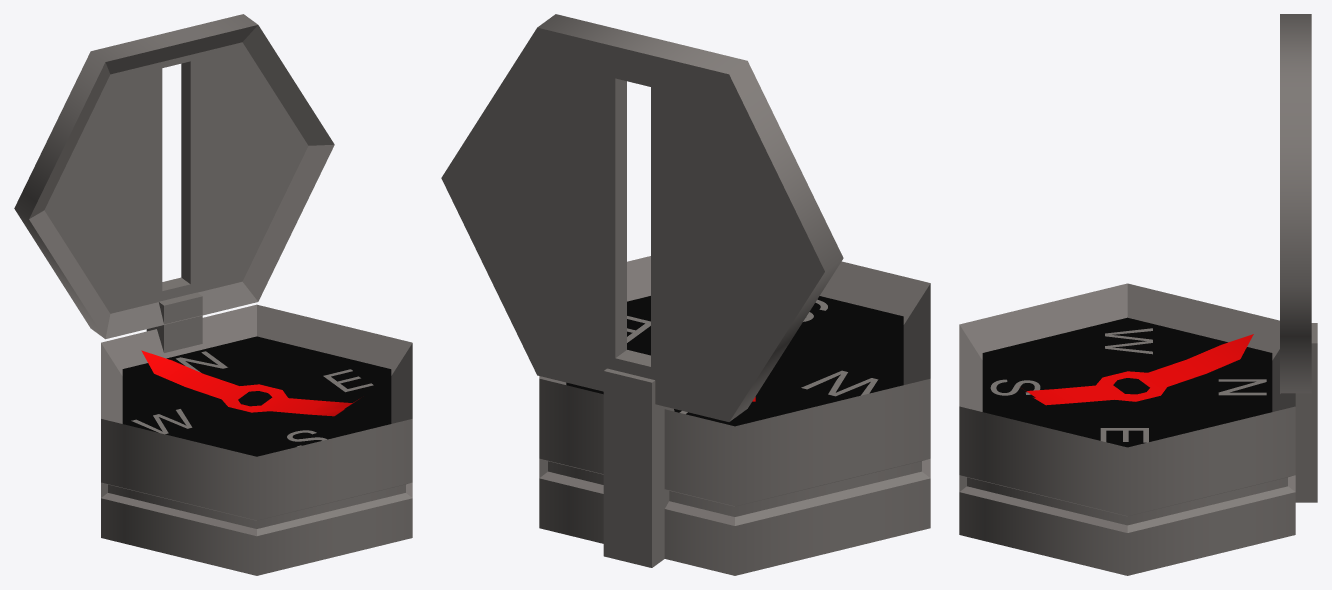
File: bussola.FBX
3 renders of one model, left to right at view 1: azimuth 30°, elevation 25°; view 2: azimuth 150°, elevation 25°; view 3: azimuth 270°, elevation 25°, orthographic. The views are drawn at different scales.
Parts seen in each view (by area): view 1: bussola, bussola black, bussola pointer; view 2: bussola, bussola black; view 3: bussola, bussola black, bussola pointer.
Part boxes in pixels (x1,y1,x2,y2): bussola: (14,14,412,575); bussola black: (122,336,391,456); bussola pointer: (141,350,358,416); bussola: (441,14,930,575); bussola black: (566,296,903,426); bussola: (959,14,1317,575); bussola black: (982,317,1272,447); bussola pointer: (1026,334,1253,405).
Bounding box in the file's own units: 932 × 1154 × 856.
